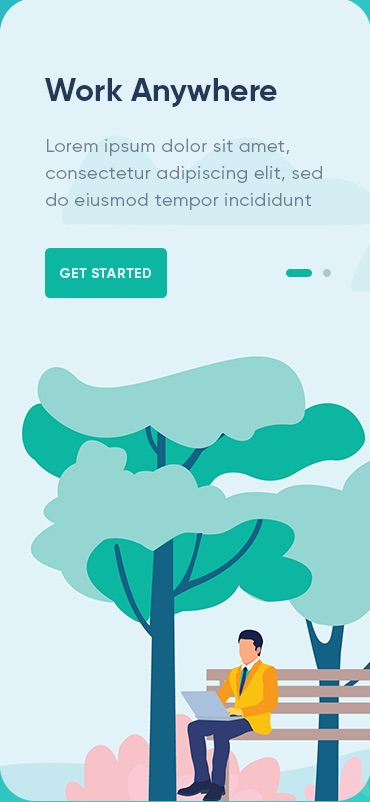BackgroundImage: (2, 2, 370, 802)
Image: (1, 355, 370, 802)
PageIndicator: (285, 269, 332, 279)
Text: (46, 138, 323, 212), (44, 77, 278, 109)
TextButton: (45, 248, 168, 299)
